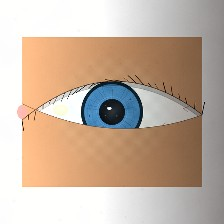pinguecula_lesion: (45, 98, 76, 122)
